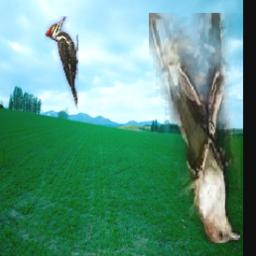Cuckoo: (149, 13, 240, 243)
Woodpecker: (45, 17, 78, 111)
